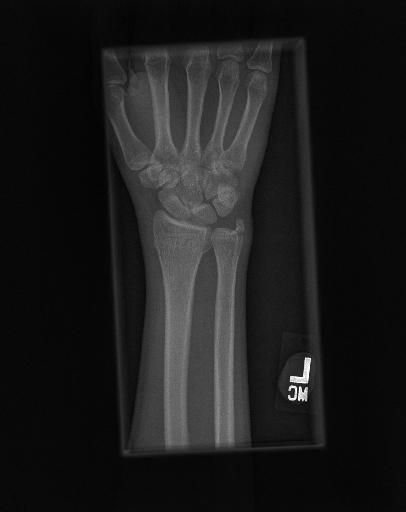fractured: (148, 211, 213, 264)
